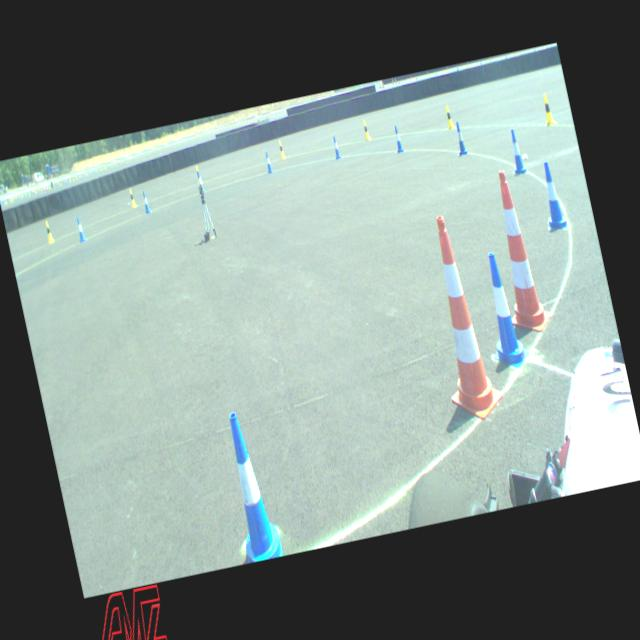blue_cone: (218, 408, 284, 562), (473, 249, 531, 371), (535, 160, 568, 232), (505, 128, 526, 174), (452, 121, 468, 156), (392, 124, 404, 152), (74, 216, 86, 242), (331, 134, 342, 160), (263, 150, 273, 173), (141, 190, 151, 212), (196, 170, 204, 192)
large_orange_cone: (414, 211, 506, 423), (479, 166, 553, 336)
yellow_cone: (539, 92, 555, 125), (443, 105, 455, 128), (44, 220, 54, 242), (360, 120, 370, 140), (128, 188, 136, 208), (277, 140, 285, 158)
